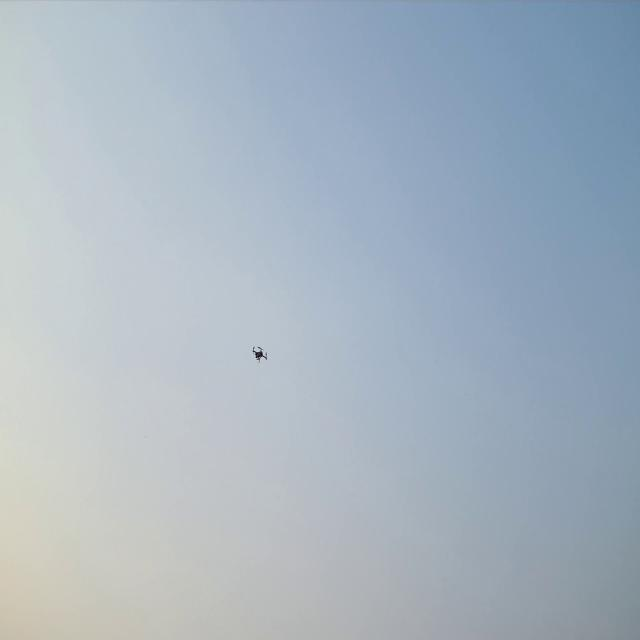UAV: (251, 343, 269, 365)
